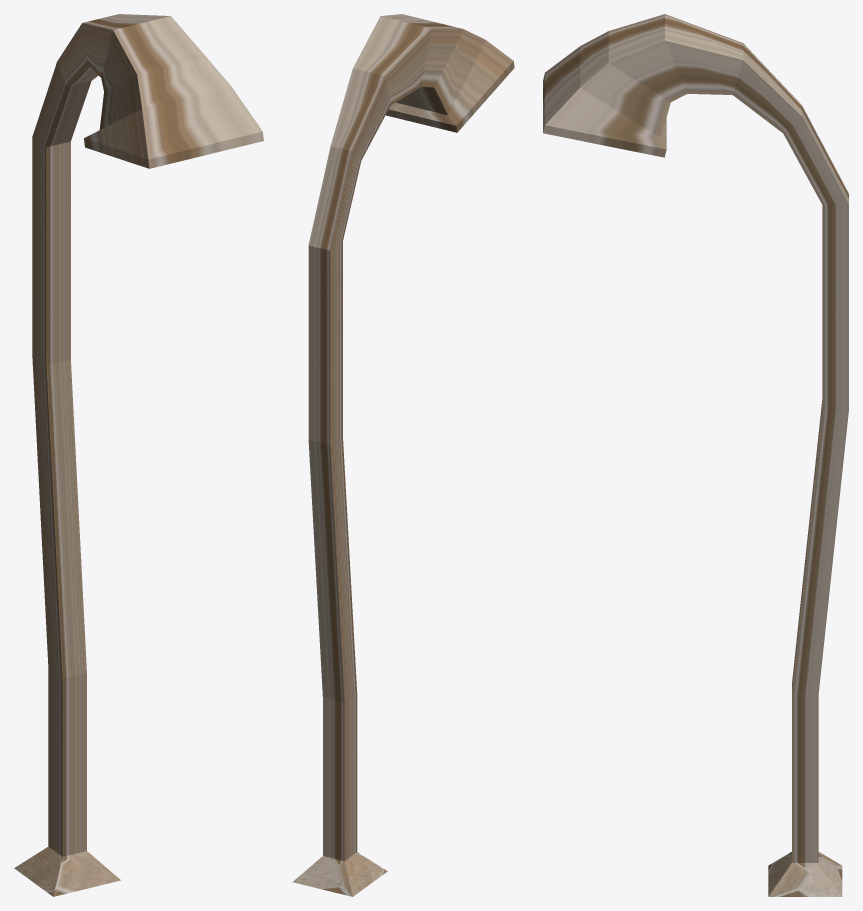
The model's file is lamp.obj.
3 views of the same model, side by side, from view 1: azimuth 30°, elevation 25°; view 2: azimuth 150°, elevation 25°; view 3: azimuth 270°, elevation 25° (orthographic). The views are drawn at different scales.
Visible parts, largest first — view 1: Cube; view 2: Cube; view 3: Cube.
Part boxes in pixels (bbox=[...]): Cube: bbox=[14, 14, 263, 896]; Cube: bbox=[292, 14, 514, 896]; Cube: bbox=[543, 14, 848, 896].
Size of the model in its own units: 4.68 by 35.4 by 11.49.
Materials: 1 (1 with a texture image).
